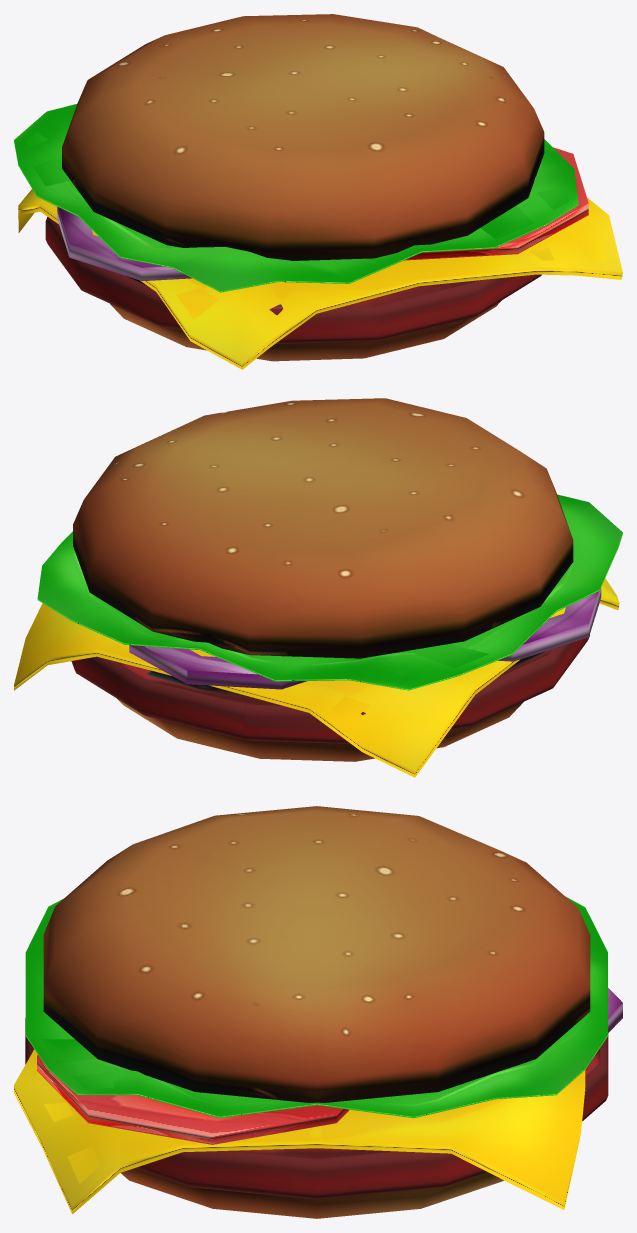
Rendered from Burger.fbx.
The picture shows the model from 3 angles, top to bottom: view 1: azimuth 30°, elevation 25°; view 2: azimuth 150°, elevation 25°; view 3: azimuth 270°, elevation 25°; orthographic projection. The views are drawn at different scales.
Parts seen in each view (by area): view 1: Burger1; view 2: Burger1; view 3: Burger1.
Part boxes in pixels (x1,y1,x2,y2): Burger1: (14,14,622,369); Burger1: (14,398,622,777); Burger1: (14,806,622,1218).
Size of the model in its own units: 7.05 by 2.94 by 6.83.
